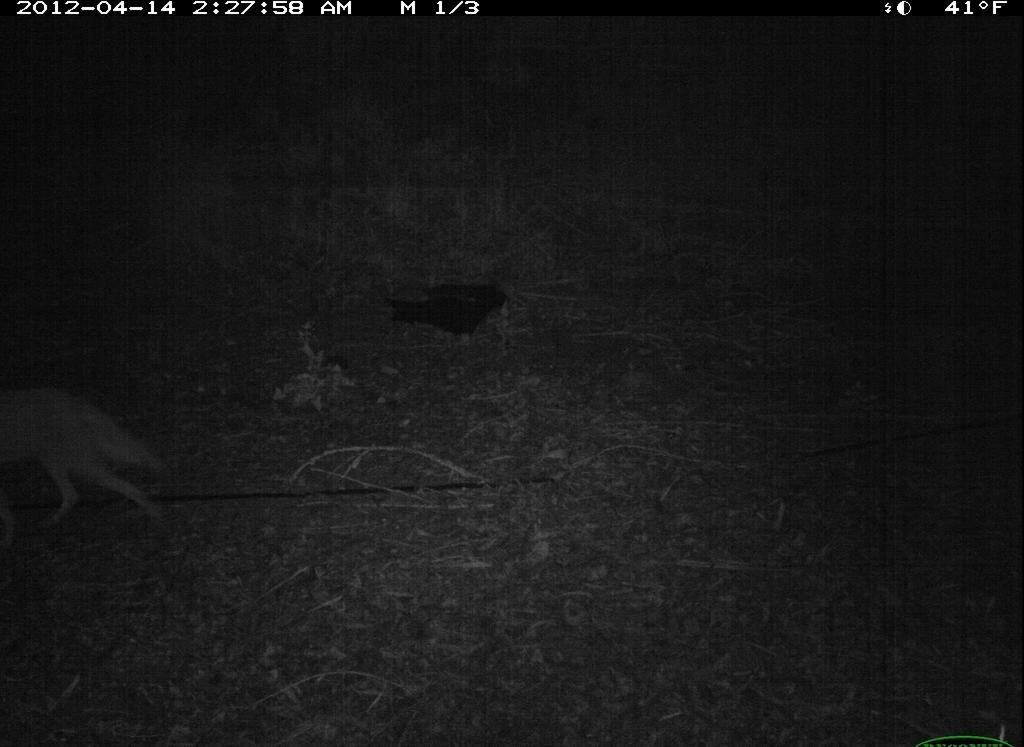coyote: (2, 350, 194, 556)
